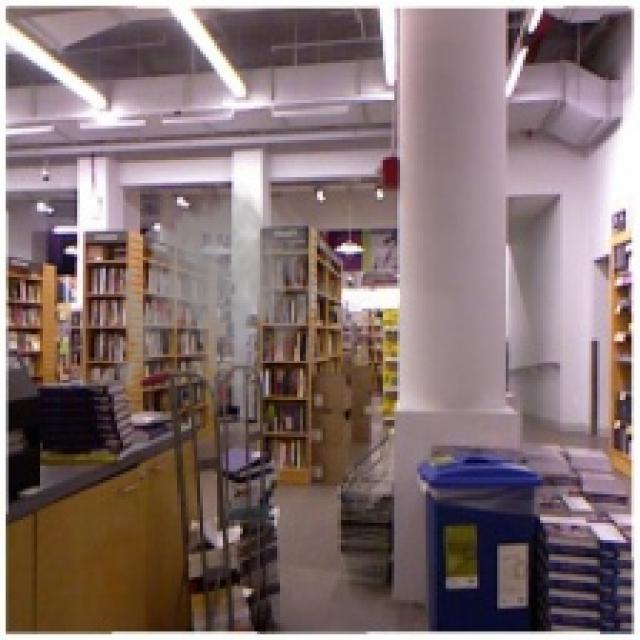smoke: (108, 180, 332, 423)
